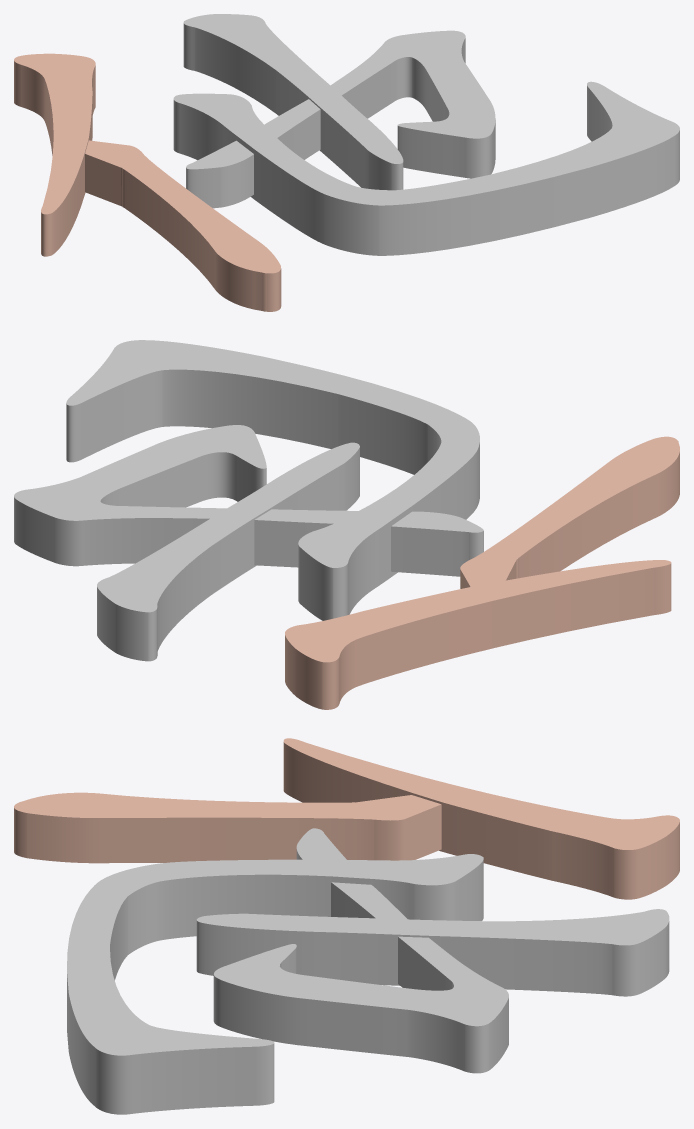
File: hanzi27.fbx
3 renders of one model, top to bottom at view 1: azimuth 30°, elevation 25°; view 2: azimuth 150°, elevation 25°; view 3: azimuth 270°, elevation 25°, orthographic. The views are drawn at different scales.
Parts seen in each view (by area): view 1: Curve.004, Curve.002, Curve.003, Curve.001, Curve; view 2: Curve.004, Curve.002, Curve, Curve.003, Curve.001; view 3: Curve.004, Curve.002, Curve.003, Curve.001, Curve.
Part boxes in pixels (x1,y1,x2,y2): Curve.004: (173,81,679,255); Curve.002: (186,30,495,208); Curve.003: (183,14,403,190); Curve.001: (85,140,281,311); Curve: (14,53,95,256); Curve.004: (66,340,479,620); Curve.002: (14,425,483,576); Curve: (285,560,671,709); Curve.003: (97,442,359,661); Curve.001: (460,436,679,588); Curve.004: (67,854,483,1114); Curve.002: (213,828,508,1073); Curve.003: (196,909,669,996); Curve.001: (14,792,441,863); Curve: (283,738,679,899).
Bounding box in the file's own units: 25.09 × 21.92 × 2.14.
